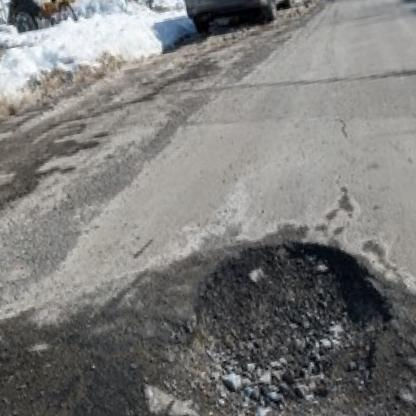pothole: (158, 224, 405, 416)
